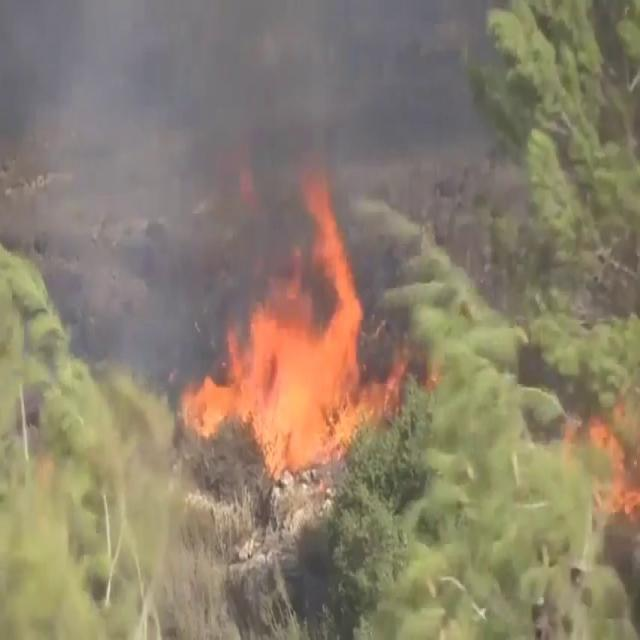Fire: (179, 173, 406, 484)
